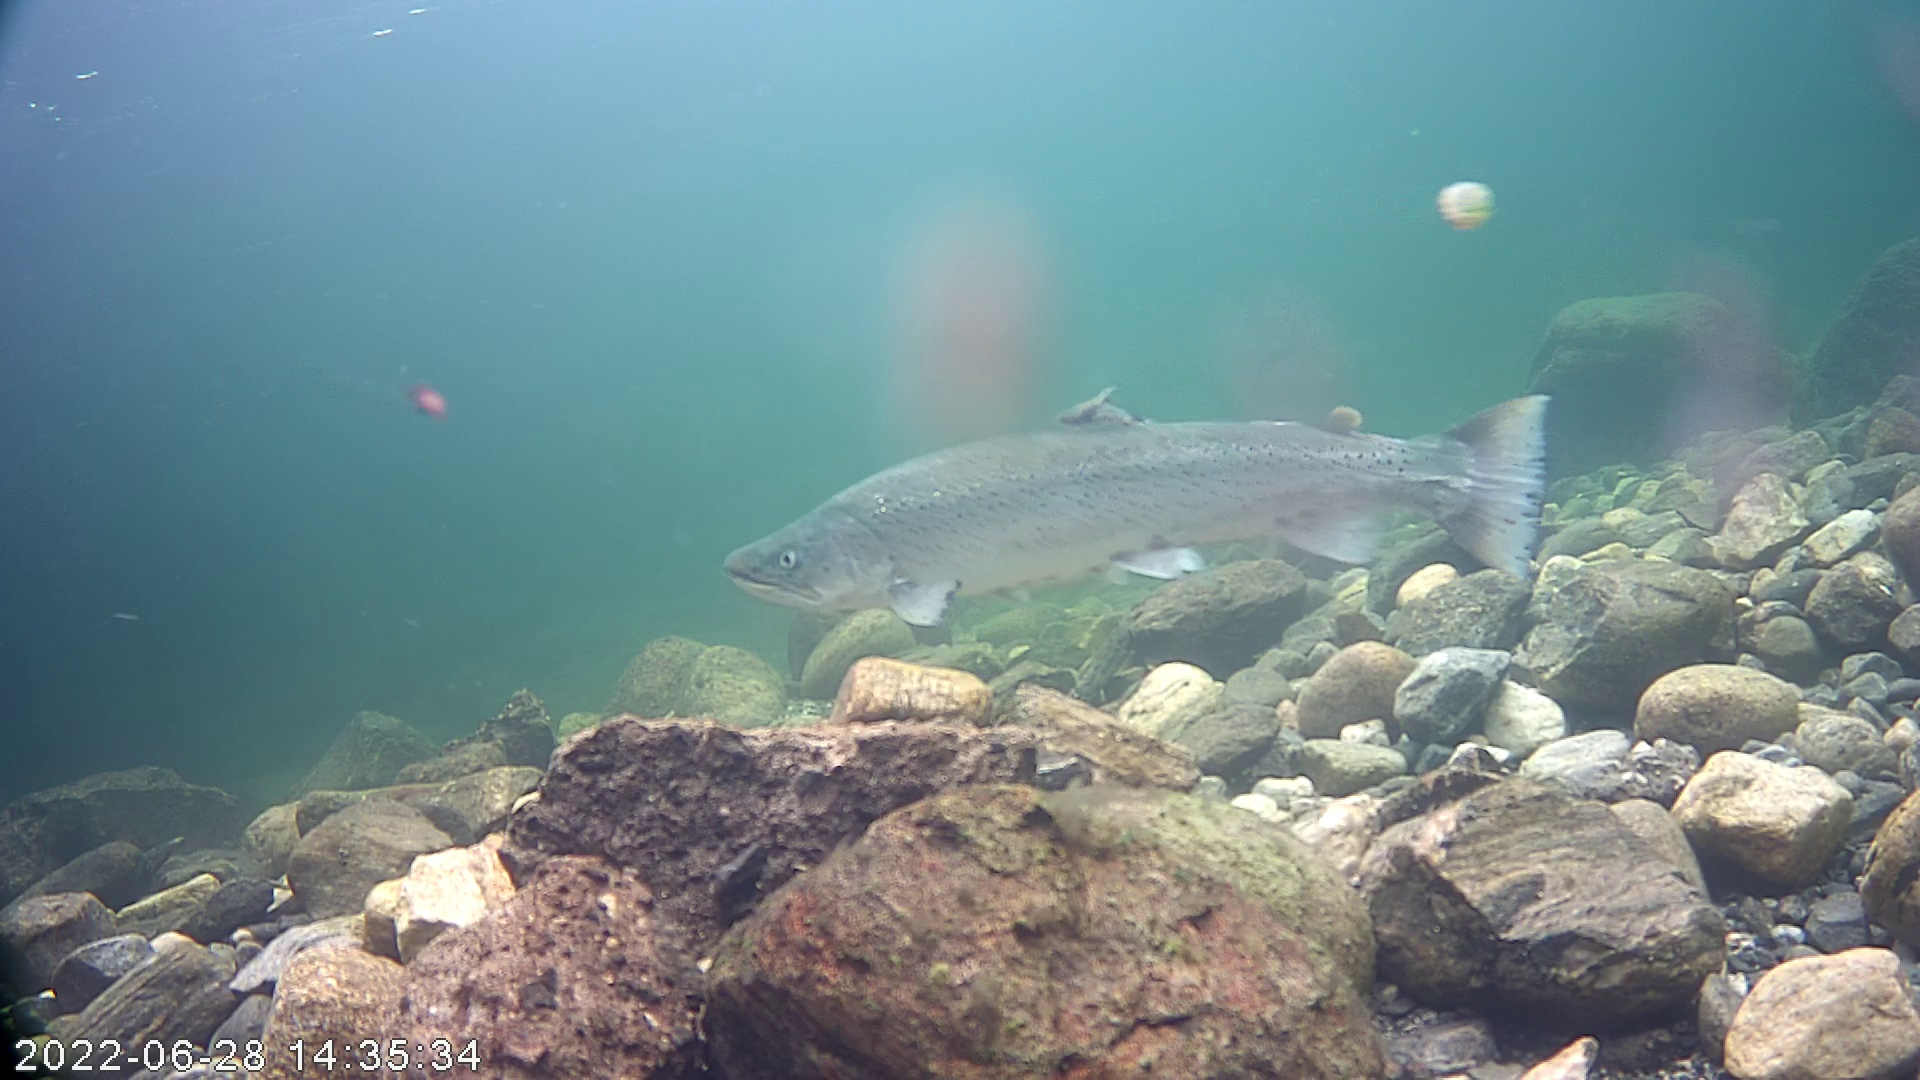salmon: (705, 276, 1578, 687)
